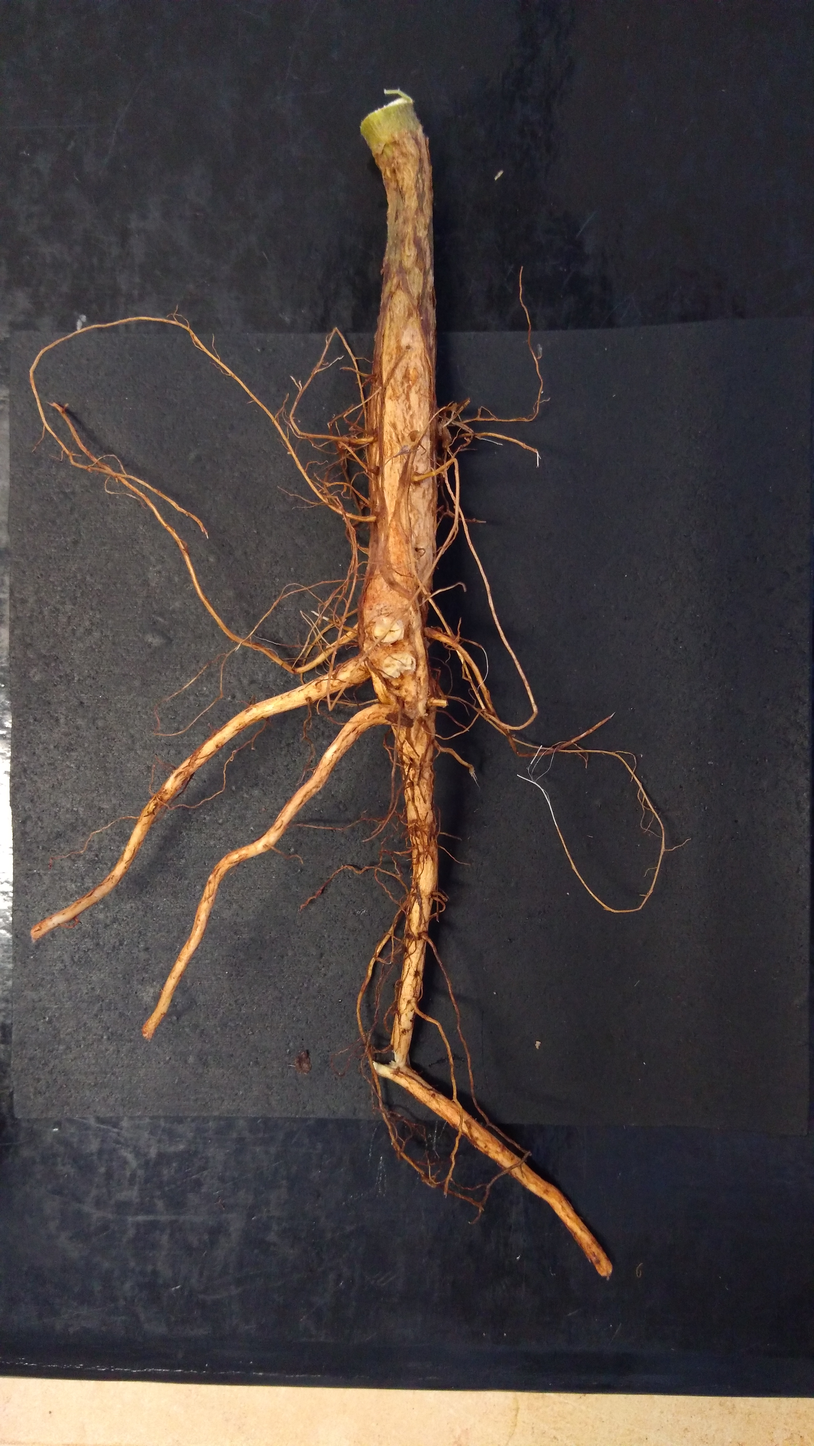nodule: (399, 673, 430, 720), (380, 650, 417, 680), (372, 616, 405, 644), (294, 1048, 312, 1075), (337, 435, 350, 450), (442, 428, 451, 448), (435, 420, 445, 437), (430, 625, 444, 635), (422, 636, 430, 649), (357, 499, 364, 509), (534, 1040, 541, 1049), (349, 435, 359, 441), (286, 448, 292, 455)
